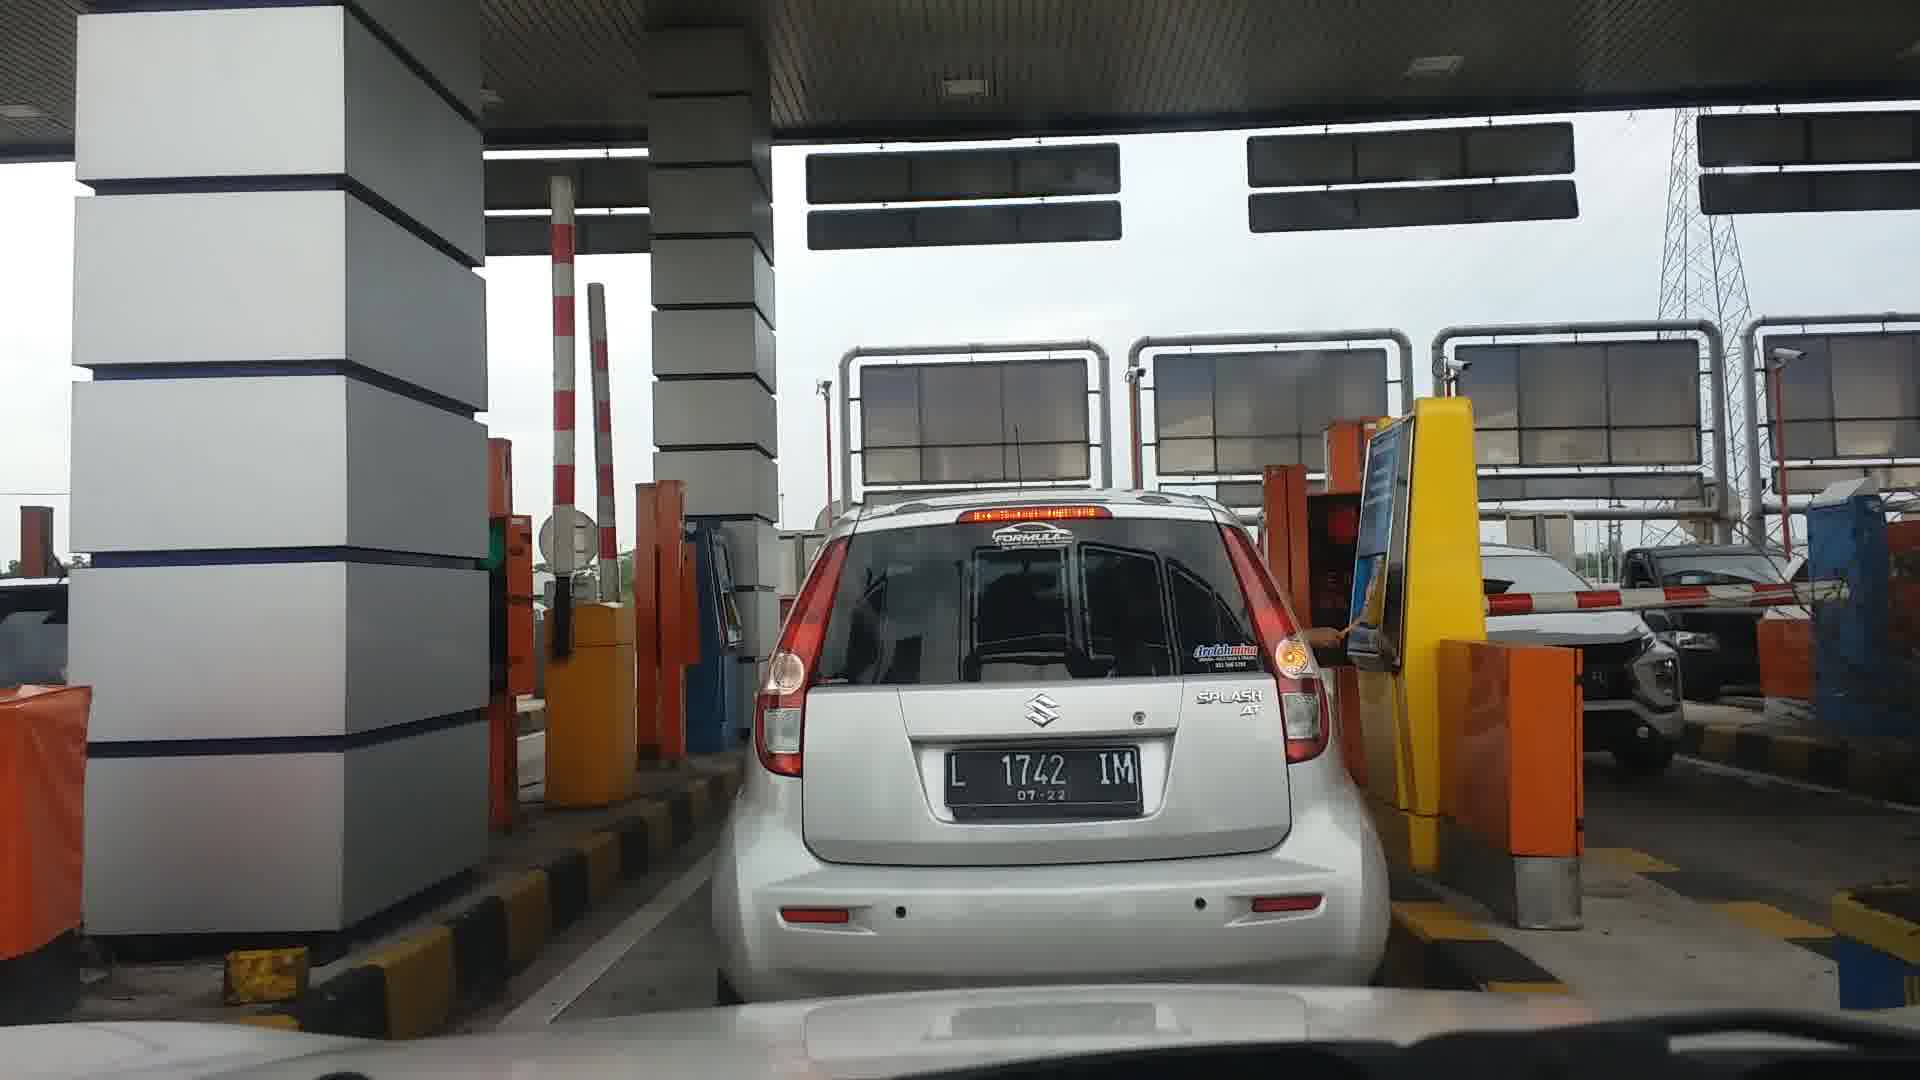plate_positive: (944, 748, 1145, 819)
